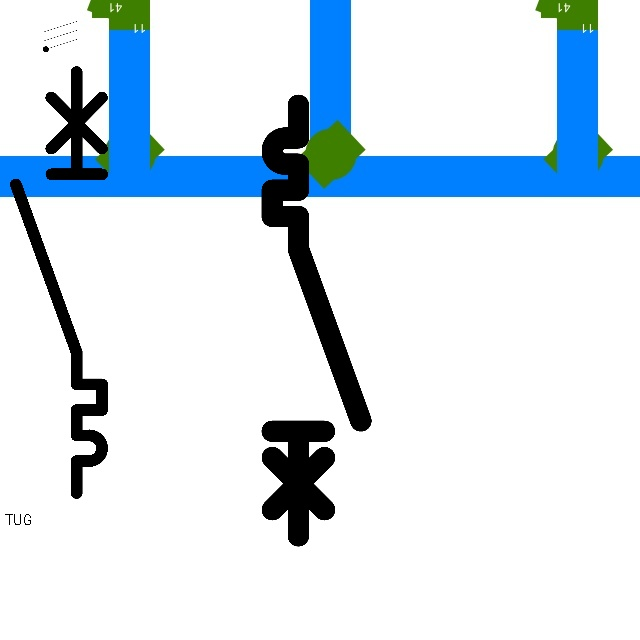interruptor_termomagnetico: (261, 94, 372, 547), (5, 61, 113, 504)
